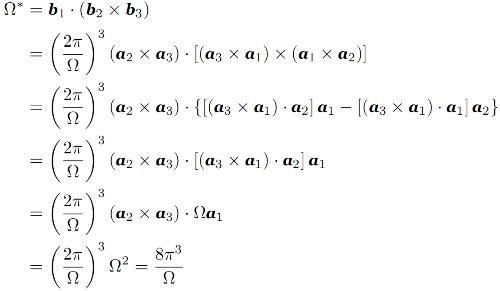cube: (97, 79, 106, 95), (173, 242, 183, 256), (96, 134, 106, 146), (97, 240, 107, 251), (96, 188, 105, 199), (96, 27, 104, 37)
